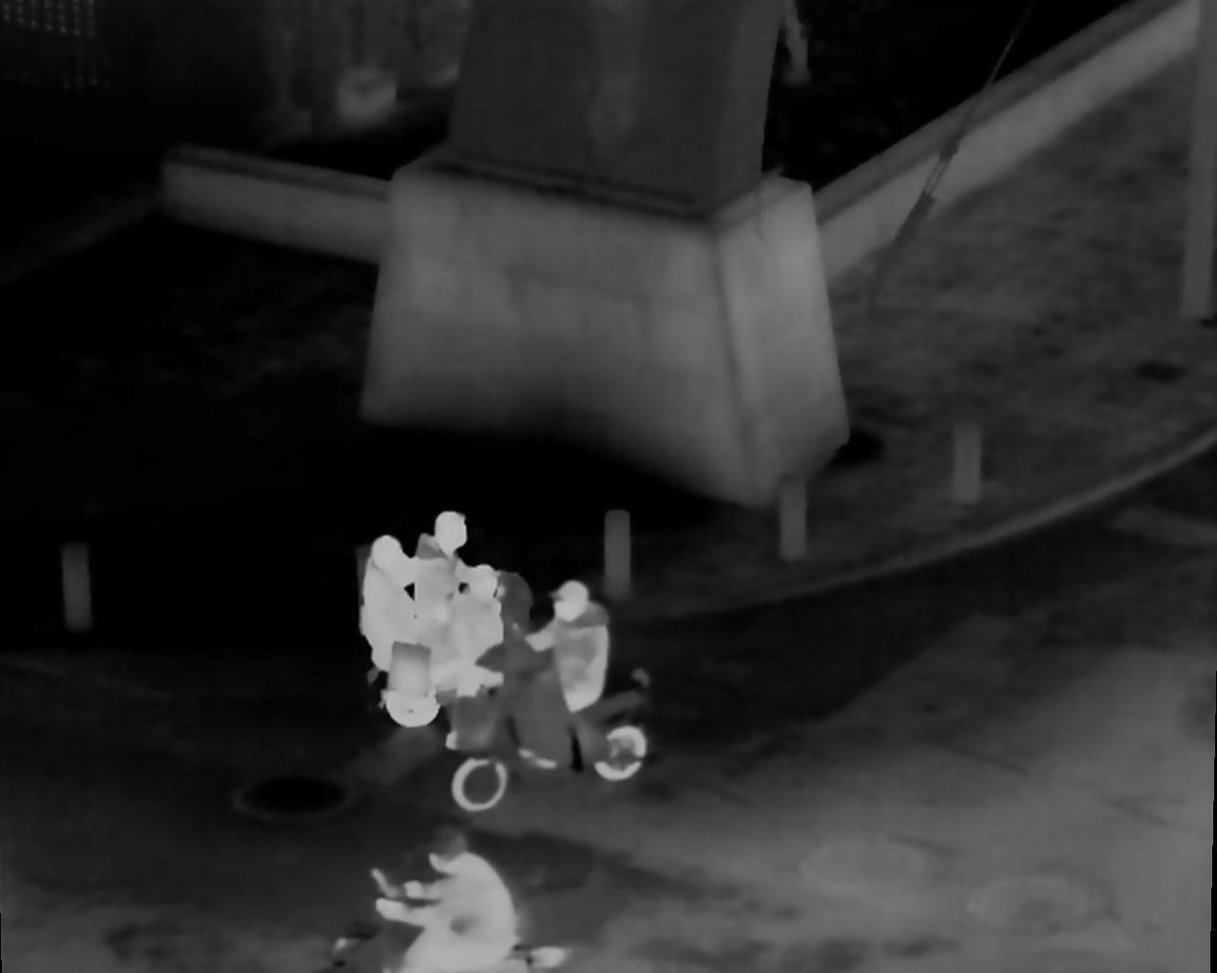person: (418, 514, 512, 697), (388, 834, 509, 973), (336, 534, 425, 713), (531, 581, 606, 765)
